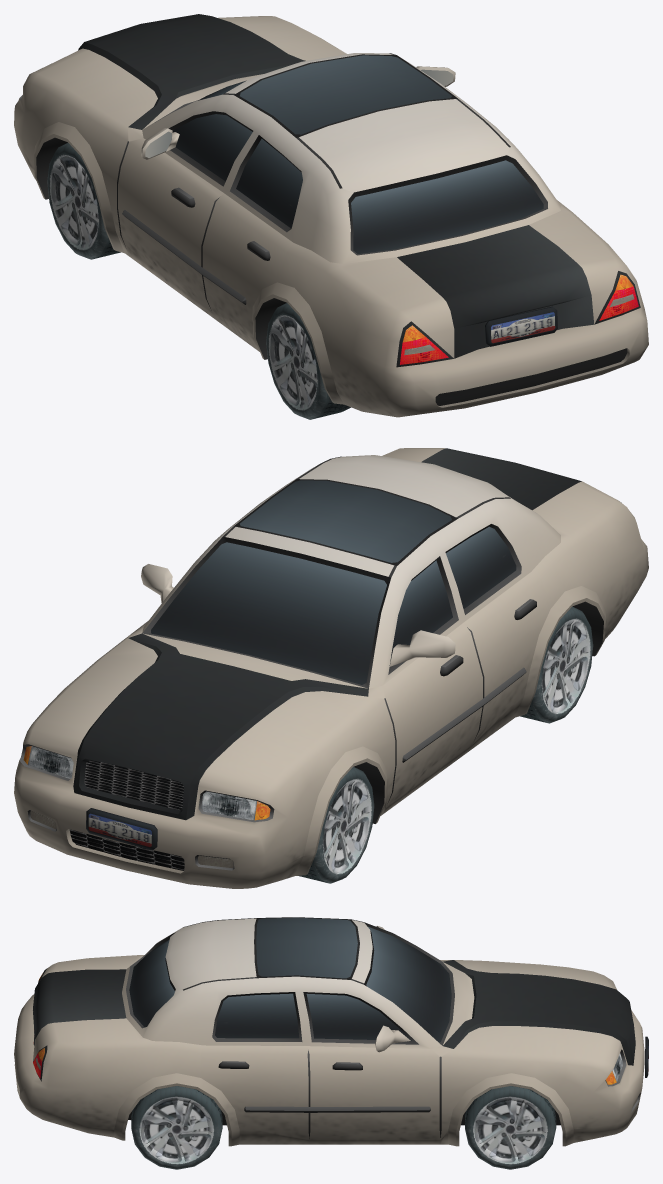
File: VHC0110005.FBX
The picture shows the model from 3 angles, top to bottom: view 1: azimuth 30°, elevation 25°; view 2: azimuth 150°, elevation 25°; view 3: azimuth 270°, elevation 25°; orthographic projection. The views are drawn at different scales.
Visible parts, largest first — view 1: smVHC0110005; view 2: smVHC0110005; view 3: smVHC0110005.
Part boxes in pixels (left/top/right/bottom): smVHC0110005: left=14, top=14, right=648, bottom=419; smVHC0110005: left=14, top=448, right=648, bottom=888; smVHC0110005: left=14, top=917, right=648, bottom=1169.
Size of the model in its own units: 160 by 116 by 370.
Materials: 1 (1 with a texture image).
